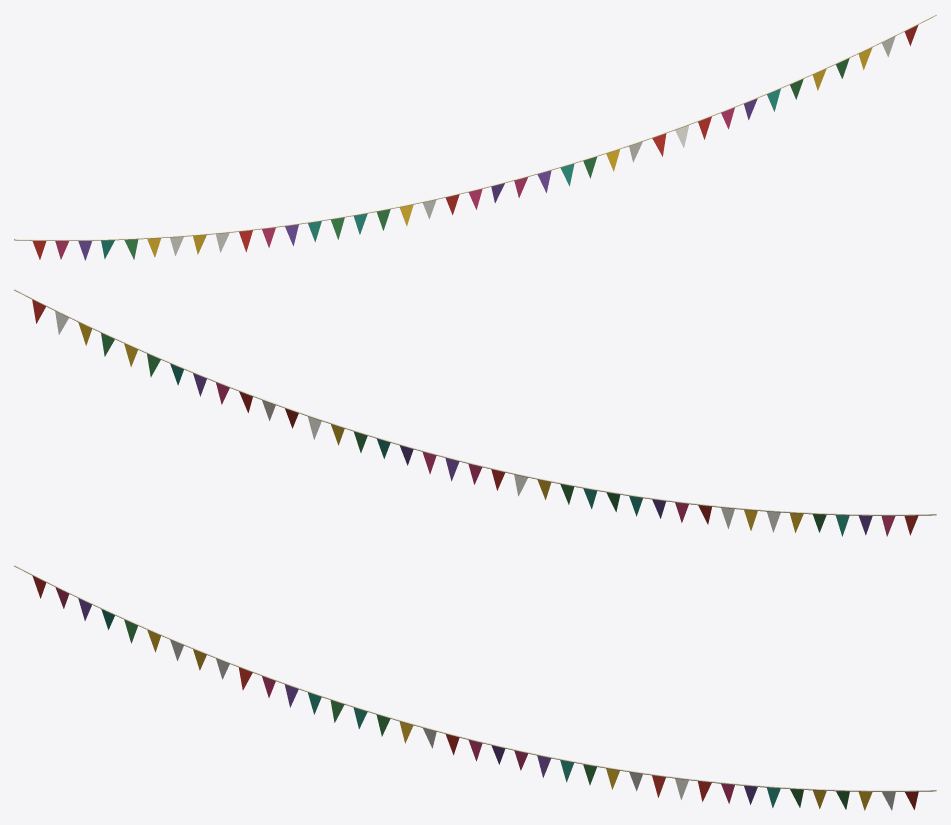
File: prop_banderitas_17m.glb
3 renders of one model, top to bottom at view 1: azimuth 30°, elevation 25°; view 2: azimuth 150°, elevation 25°; view 3: azimuth 330°, elevation 25°, orthographic.
Parts seen in each view (by area): view 1: prop_banderitas_17m; view 2: prop_banderitas_17m; view 3: prop_banderitas_17m.
Part boxes in pixels (<box>): prop_banderitas_17m: <box>14,14,936,260</box>; prop_banderitas_17m: <box>14,289,936,536</box>; prop_banderitas_17m: <box>14,565,936,810</box>.
Bounding box in the file's own units: 17 × 1.48 × 0.1458.
